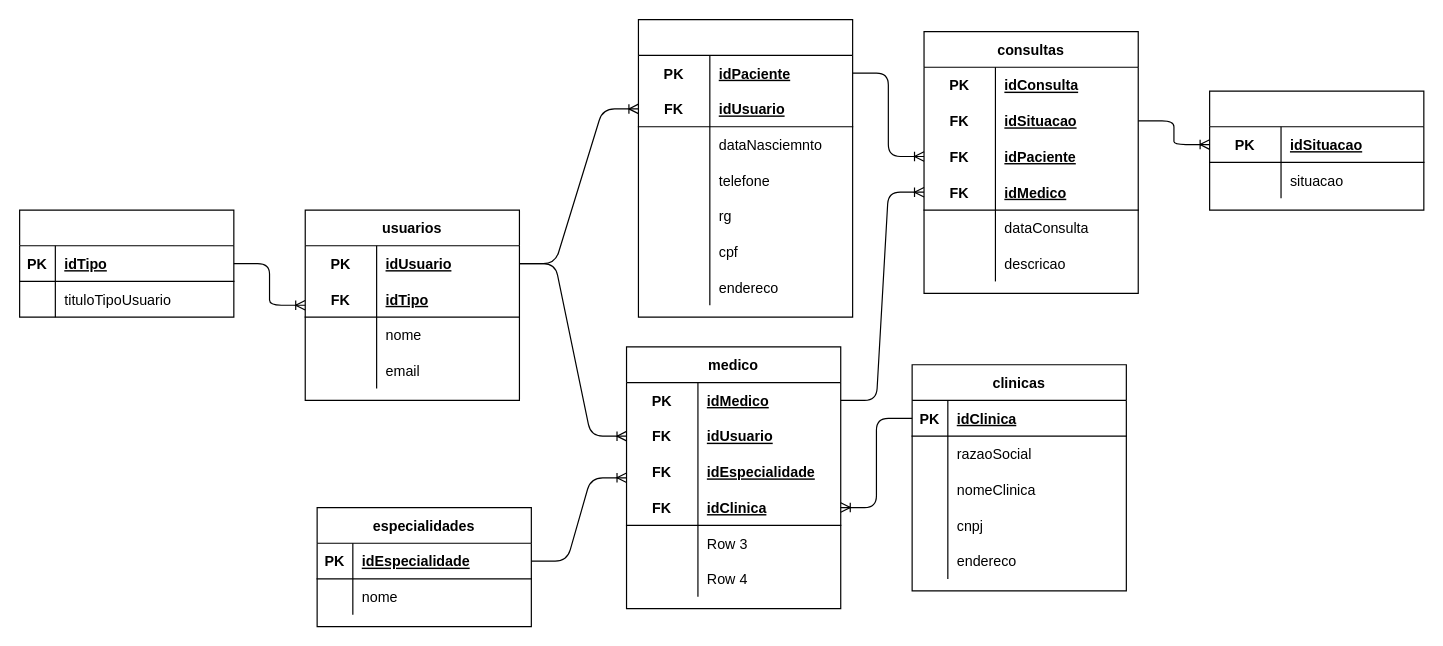
Image size: 1443x646. Some labels were removed from this diagram. The shapes that lost their labels are listed below. From the top down, each one's box as (x1, y1, x2, y2) in pixels, then its label:
(637, 18, 853, 317): pacientes
(1208, 90, 1424, 210): situacoes
(18, 209, 234, 317): tiposUsuarios
